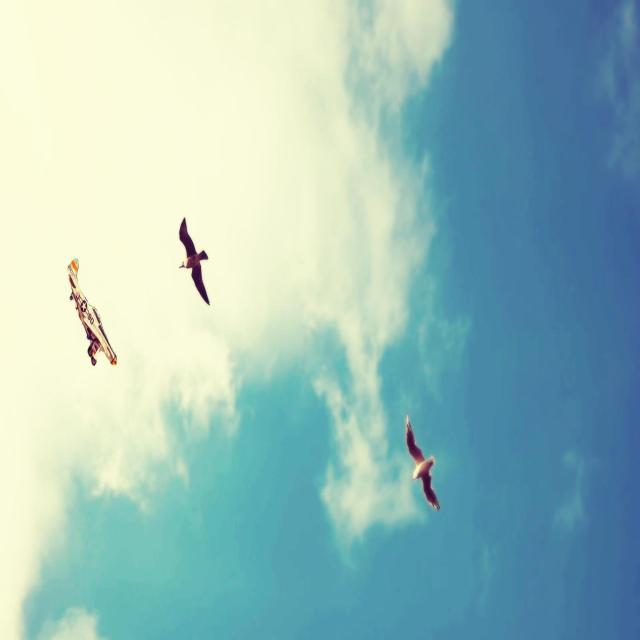airplane: (67, 257, 117, 366)
